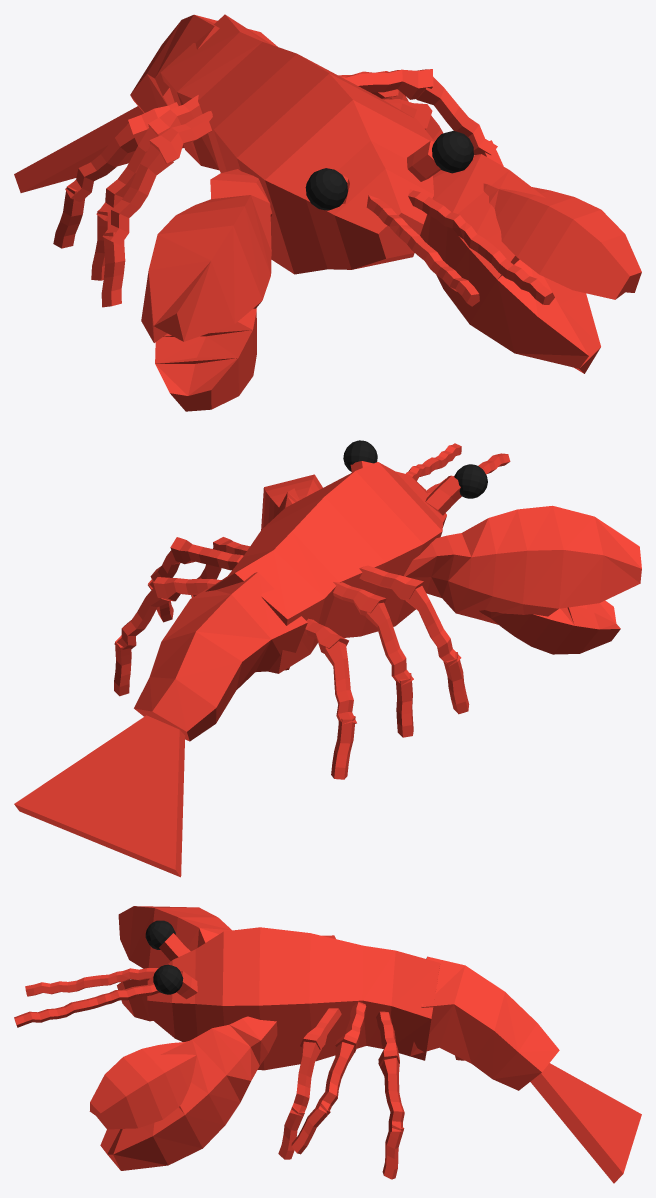
Rendered from lobster.glb.
3 renders of one model, top to bottom at view 1: azimuth 30°, elevation 25°; view 2: azimuth 150°, elevation 25°; view 3: azimuth 270°, elevation 25°, orthographic. The views are drawn at different scales.
Visible parts, largest first — view 1: body, finLeft, finRight, legMiddle, legFirst, legLast, tail, mustacheLeft, mustacheRight; view 2: body, finRight, tail, legLast, legMiddle, legFirst, finLeft, mustacheLeft; view 3: body, finLeft, tail, finRight, legLast, legMiddle, legFirst, mustacheLeft, mustacheRight.
Part boxes in pixels (x1,y1,x2,y2): body: [130, 14, 473, 274]; finLeft: [420, 154, 641, 373]; finRight: [141, 169, 272, 411]; legMiddle: [91, 69, 503, 280]; legFirst: [101, 99, 443, 307]; legLast: [53, 71, 408, 248]; tail: [14, 106, 184, 192]; mustacheLeft: [408, 189, 554, 304]; mustacheRight: [366, 195, 479, 306]; body: [134, 440, 487, 741]; finRight: [404, 505, 641, 654]; tail: [14, 715, 185, 877]; legLast: [114, 577, 356, 779]; legMiddle: [148, 537, 413, 737]; legFirst: [191, 537, 469, 714]; finLeft: [261, 474, 322, 529]; mustacheLeft: [406, 443, 461, 480]; body: [145, 920, 559, 1090]; finLeft: [89, 1016, 277, 1170]; tail: [530, 1063, 641, 1183]; finRight: [117, 906, 231, 1021]; legLast: [376, 1011, 464, 1179]; legMiddle: [291, 1001, 366, 1154]; legFirst: [278, 935, 341, 1159]; mustacheLeft: [14, 983, 159, 1027]; mustacheRight: [25, 968, 158, 996].
Size of the model in its own units: 0.8656 by 0.5145 by 1.37.
